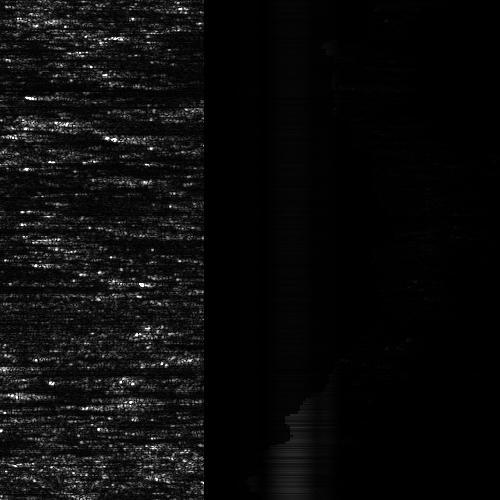object: (31, 119, 124, 130), (0, 364, 48, 375), (25, 235, 98, 240)
shadow: (0, 364, 148, 375), (0, 195, 189, 200), (78, 119, 158, 130), (0, 278, 46, 297), (0, 394, 40, 407), (0, 271, 53, 280), (0, 386, 140, 389), (61, 235, 137, 240)
